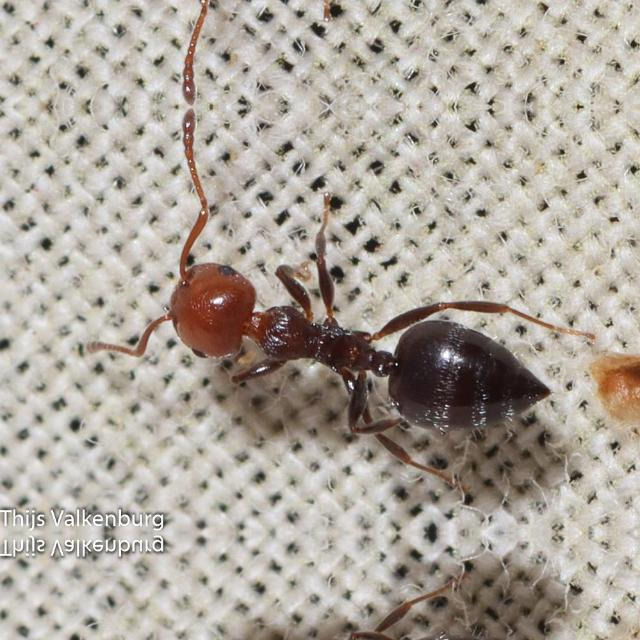Crematogaster: (134, 222, 566, 488), (134, 575, 566, 640)
